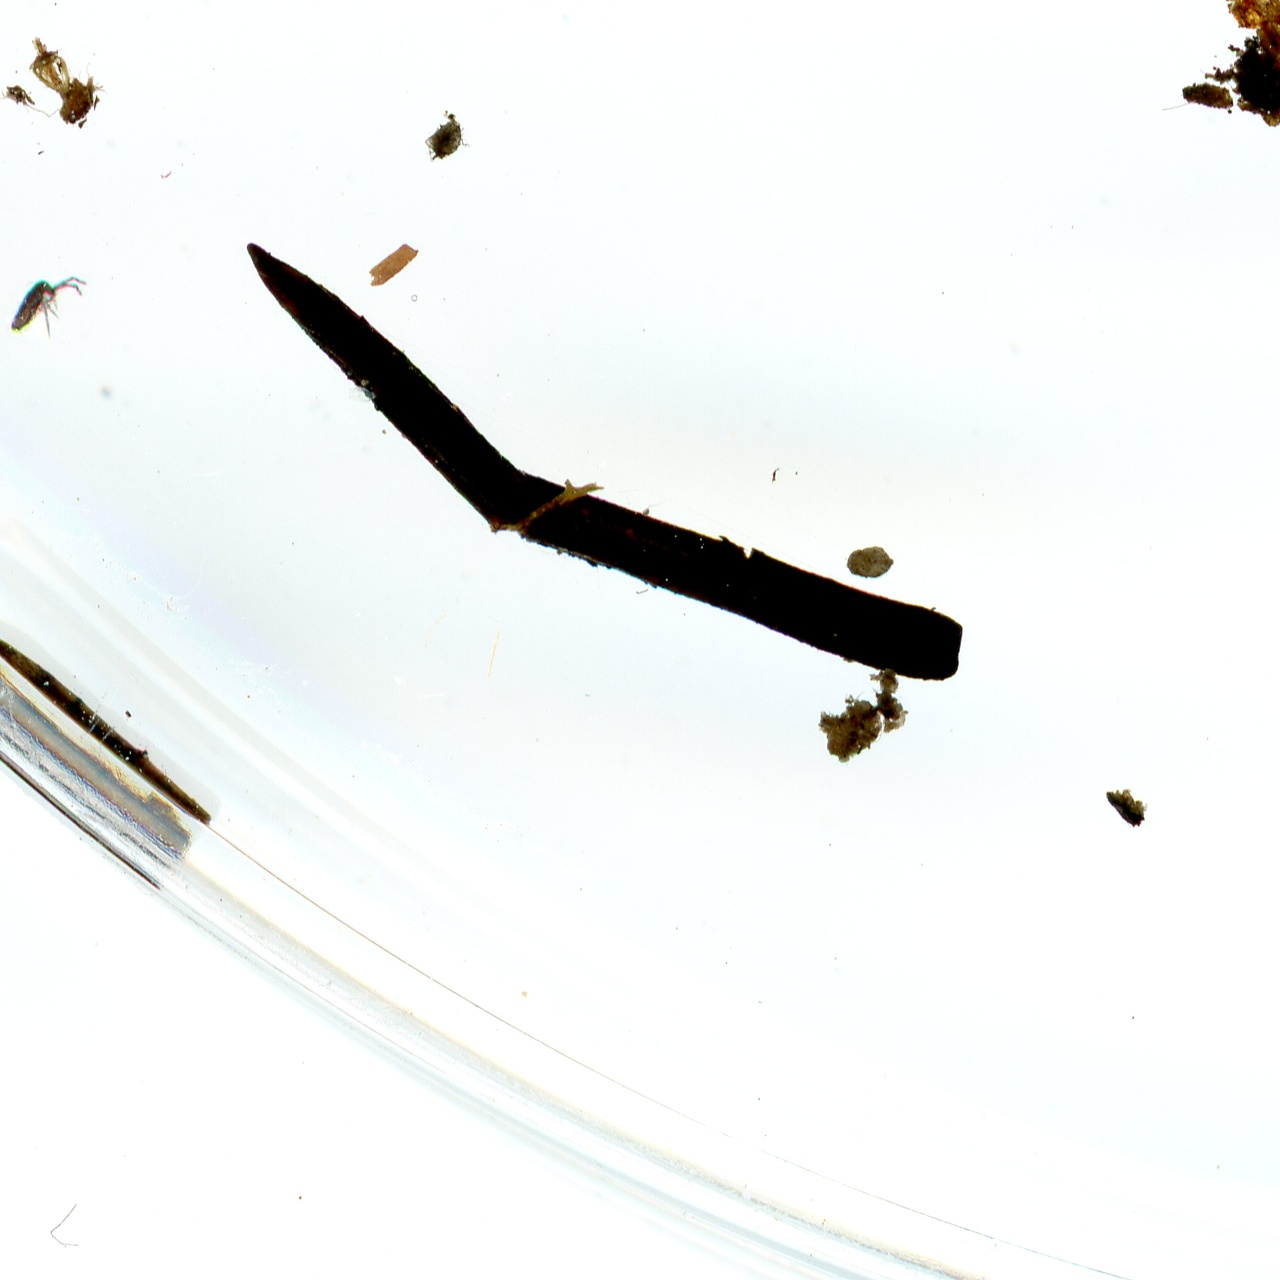arthropod: (0, 252, 96, 360)
